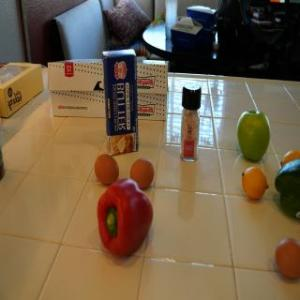bell_pepper: (95, 182, 159, 258), (274, 158, 300, 218)
egg: (272, 238, 298, 278), (93, 152, 121, 186), (130, 156, 154, 189)
